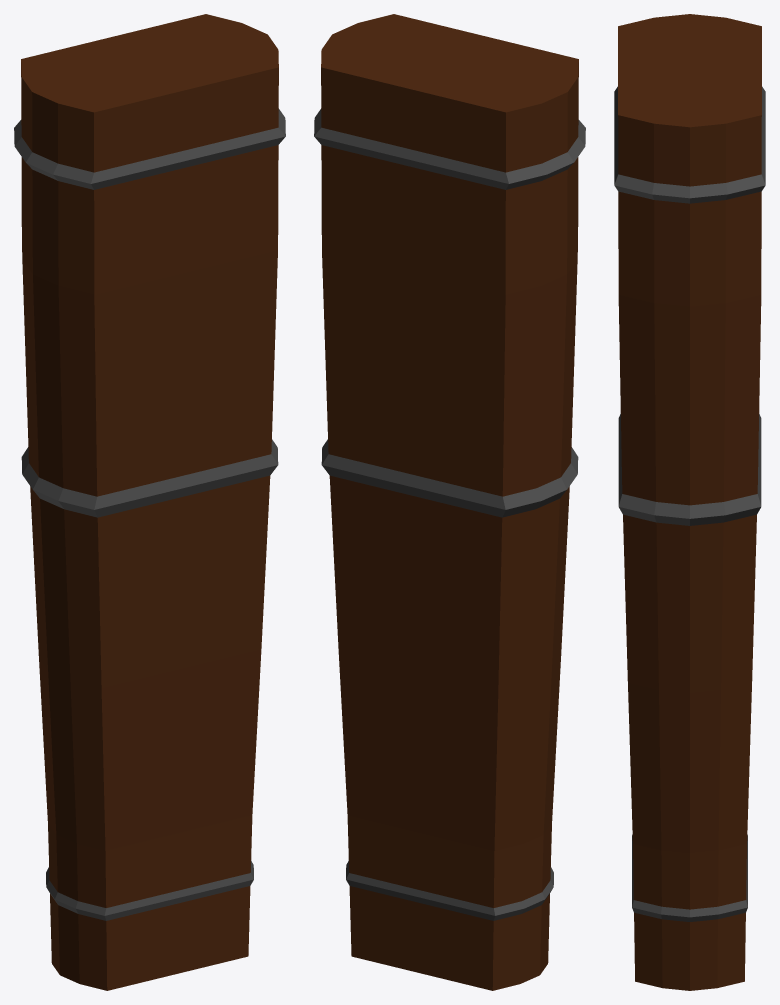
Rendered from ModularSwordKit_Grip02.fbx.
The picture shows the model from 3 angles, left to right: view 1: azimuth 30°, elevation 25°; view 2: azimuth 150°, elevation 25°; view 3: azimuth 270°, elevation 25°; orthographic projection.
Visible parts, largest first — view 1: Grip02; view 2: Grip02; view 3: Grip02.
Boxes of the visible parts, left/top/right/bottom form: Grip02: left=14, top=14, right=285, bottom=990; Grip02: left=314, top=14, right=585, bottom=990; Grip02: left=614, top=14, right=765, bottom=990.
Size of the model in its own units: 16.91 by 57.88 by 9.06.
